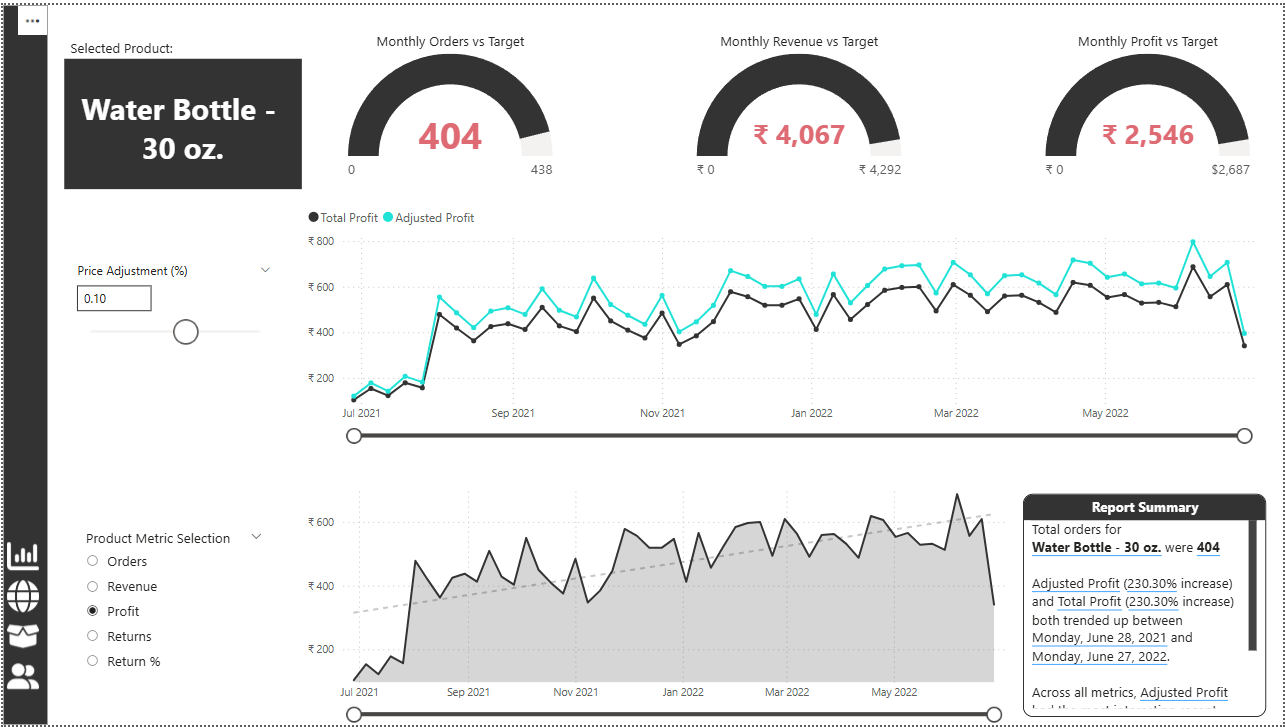

This screenshot's page, from the dashboard's own definition file:
{"tool":"powerbi","page":{"name":"Product Detail","canvas":[1280,720],"ordinal":2},"visuals":[{"type":"shape","box":[0,0,45,720],"z":0},{"type":"actionButton","box":[0,531.2,45,40],"z":0,"group":"g1"},{"type":"gauge","title":"Monthly Orders vs Target","fields":{"Y":["Measure Table.Total Orders"],"MaxValue":["Measure Table.Order Target"]},"box":[322.8,26.2,250,157.5],"z":1000},{"type":"actionButton","box":[0,571.2,45,40],"z":1000,"group":"g1"},{"type":"gauge","title":"Monthly Revenue vs Target","fields":{"Y":["Measure Table.Total Revenue"],"MaxValue":["Measure Table.Revenue Target"]},"box":[671.5,26.2,250,157.5],"z":2000},{"type":"actionButton","box":[0,611.2,45,40],"z":2000,"group":"g1"},{"type":"gauge","title":"Monthly Profit vs Target","fields":{"Y":["Measure Table.Total Profit"],"MaxValue":["Measure Table.Profit Target"]},"box":[1020.3,26.2,250,157.5],"z":3000},{"type":"actionButton","box":[0,651.2,45,40],"z":3000,"group":"g1"},{"type":"lineChart","title":"Profit Trending","fields":{"Category":["Calendar Lookup.Date Hierarchy.Start of Year","Calendar Lookup.Date Hierarchy.Start of Month","Calendar Lookup.Date Hierarchy.Start of Week","Calendar Lookup.Date Hierarchy.Date"],"Y":["Measure Table.Total Profit","Measure Table.Adjusted Profit"]},"box":[299.4,192.6,970.6,249.1],"z":4000},{"type":"areaChart","title":"Returns Trending","fields":{"Y":["Measure Table.Total Profit"],"Category":["Calendar Lookup.Date Hierarchy.Start of Year","Calendar Lookup.Date Hierarchy.Start of Month","Calendar Lookup.Date Hierarchy.Start of Week","Calendar Lookup.Date Hierarchy.Date"]},"box":[299.4,471.2,720.2,249.1],"z":5000},{"type":"card","fields":{"Values":["Min(Product Lookup.ProductName)"]},"box":[61.2,53.8,237.5,130],"z":6000},{"type":"textbox","box":[62.5,28.8,132.5,27.5],"z":7000},{"type":"group","id":"g1","title":"Navigation Buttons","box":[0,531.2,45,160],"z":8000},{"type":"slicer","fields":{"Values":["Price Adjustment (%).Price Adjustment (%)"]},"box":[61.4,252.8,218.4,130.1],"z":9000},{"type":"slicer","fields":{"Values":["Product Metric Selection.Product Metric Selection"]},"box":[69.9,519,201.2,155.8],"z":10000},{"type":"textbox","title":"Report Summary","box":[1019.6,488.3,242.9,223.3],"z":10001}]}

Visuals, with their boxes on the page's 1280x720 design canvas (x1, y1, x2, y2). These are canvas units, not pixel positions in the 1285x727 screenshot, which may show the page scaled, cropped or inside an application window:
shape: {"left": 0, "top": 0, "right": 45, "bottom": 720}
actionButton: {"left": 0, "top": 531, "right": 45, "bottom": 571}
"Monthly Orders vs Target" gauge: {"left": 323, "top": 26, "right": 573, "bottom": 184}
actionButton: {"left": 0, "top": 571, "right": 45, "bottom": 611}
"Monthly Revenue vs Target" gauge: {"left": 672, "top": 26, "right": 922, "bottom": 184}
actionButton: {"left": 0, "top": 611, "right": 45, "bottom": 651}
"Monthly Profit vs Target" gauge: {"left": 1020, "top": 26, "right": 1270, "bottom": 184}
actionButton: {"left": 0, "top": 651, "right": 45, "bottom": 691}
"Profit Trending" lineChart: {"left": 299, "top": 193, "right": 1270, "bottom": 442}
"Returns Trending" areaChart: {"left": 299, "top": 471, "right": 1020, "bottom": 720}
card - Min(Product Lookup.ProductName): {"left": 61, "top": 54, "right": 299, "bottom": 184}
textbox: {"left": 62, "top": 29, "right": 195, "bottom": 56}
"Navigation Buttons" group: {"left": 0, "top": 531, "right": 45, "bottom": 691}
slicer - Price Adjustment (%).Price Adjustment (%): {"left": 61, "top": 253, "right": 280, "bottom": 383}
slicer - Product Metric Selection.Product Metric Selection: {"left": 70, "top": 519, "right": 271, "bottom": 675}
"Report Summary" textbox: {"left": 1020, "top": 488, "right": 1262, "bottom": 712}
